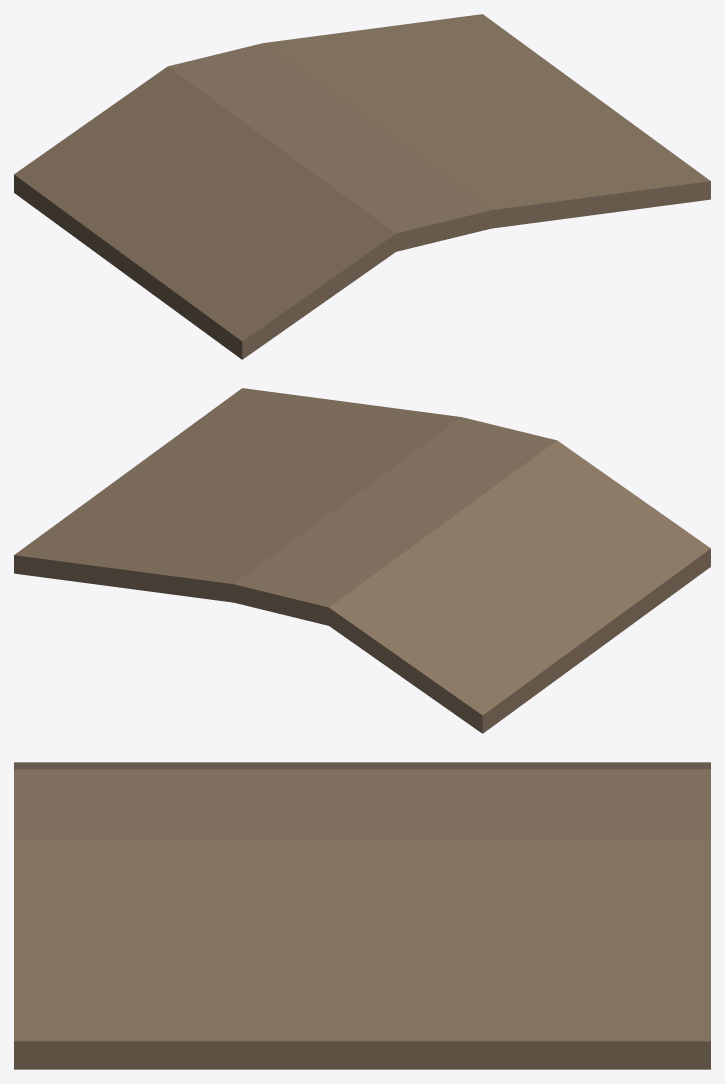
The model's file is SM_DockStep.fbx.
The picture shows the model from 3 angles, top to bottom: view 1: azimuth 30°, elevation 25°; view 2: azimuth 150°, elevation 25°; view 3: azimuth 270°, elevation 25°; orthographic projection. The views are drawn at different scales.
Visible parts, largest first — view 1: SM_DockStep; view 2: SM_DockStep; view 3: SM_DockStep.
Boxes of the visible parts, x1,y1,x2,y2 form: SM_DockStep: (14, 14, 710, 359); SM_DockStep: (14, 388, 710, 733); SM_DockStep: (14, 762, 710, 1069).
Size of the model in its own units: 320 by 270 by 58.
